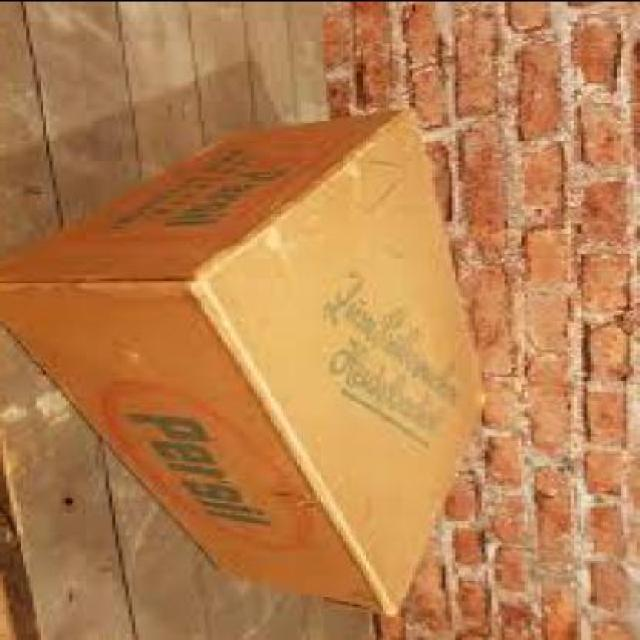cardboard: (5, 106, 489, 611)
